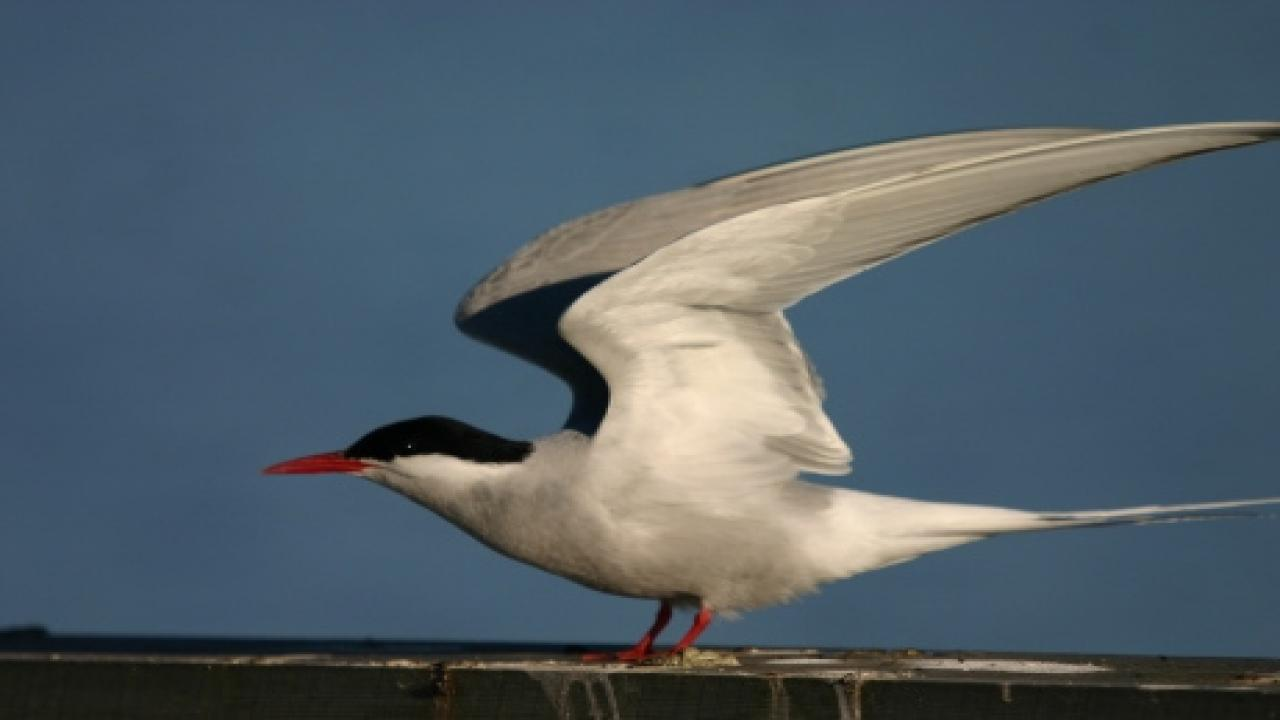Bird: (244, 108, 1280, 665)
